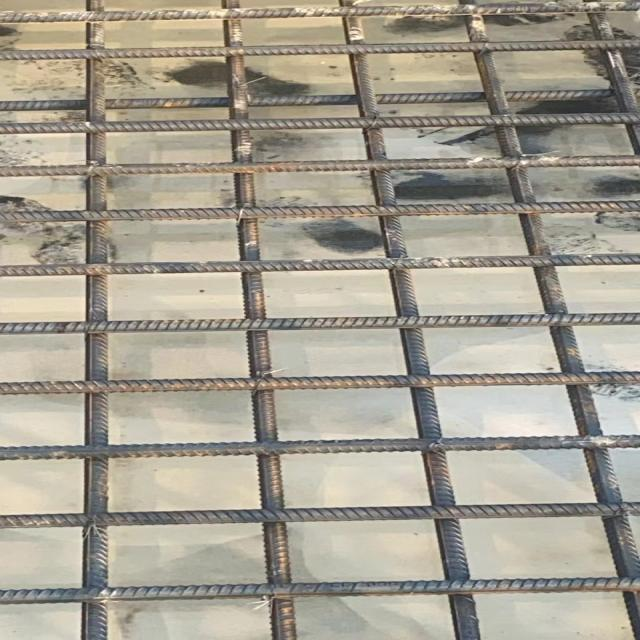ribbed bar: (458, 0, 639, 639), (338, 0, 484, 639), (219, 0, 299, 639), (78, 0, 110, 639), (0, 501, 639, 530), (0, 434, 639, 462), (0, 577, 639, 605), (0, 370, 639, 396), (0, 88, 639, 113), (0, 311, 639, 336), (0, 37, 639, 61), (0, 200, 639, 224), (0, 252, 639, 275), (0, 2, 639, 24), (0, 112, 639, 134), (0, 155, 639, 177), (581, 0, 639, 154)
